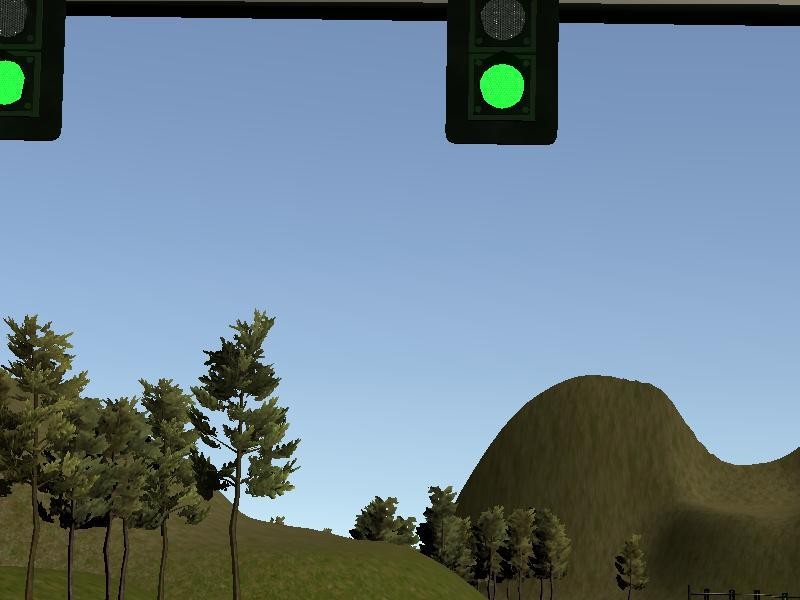Green: (447, 1, 558, 144), (1, 1, 62, 138)
